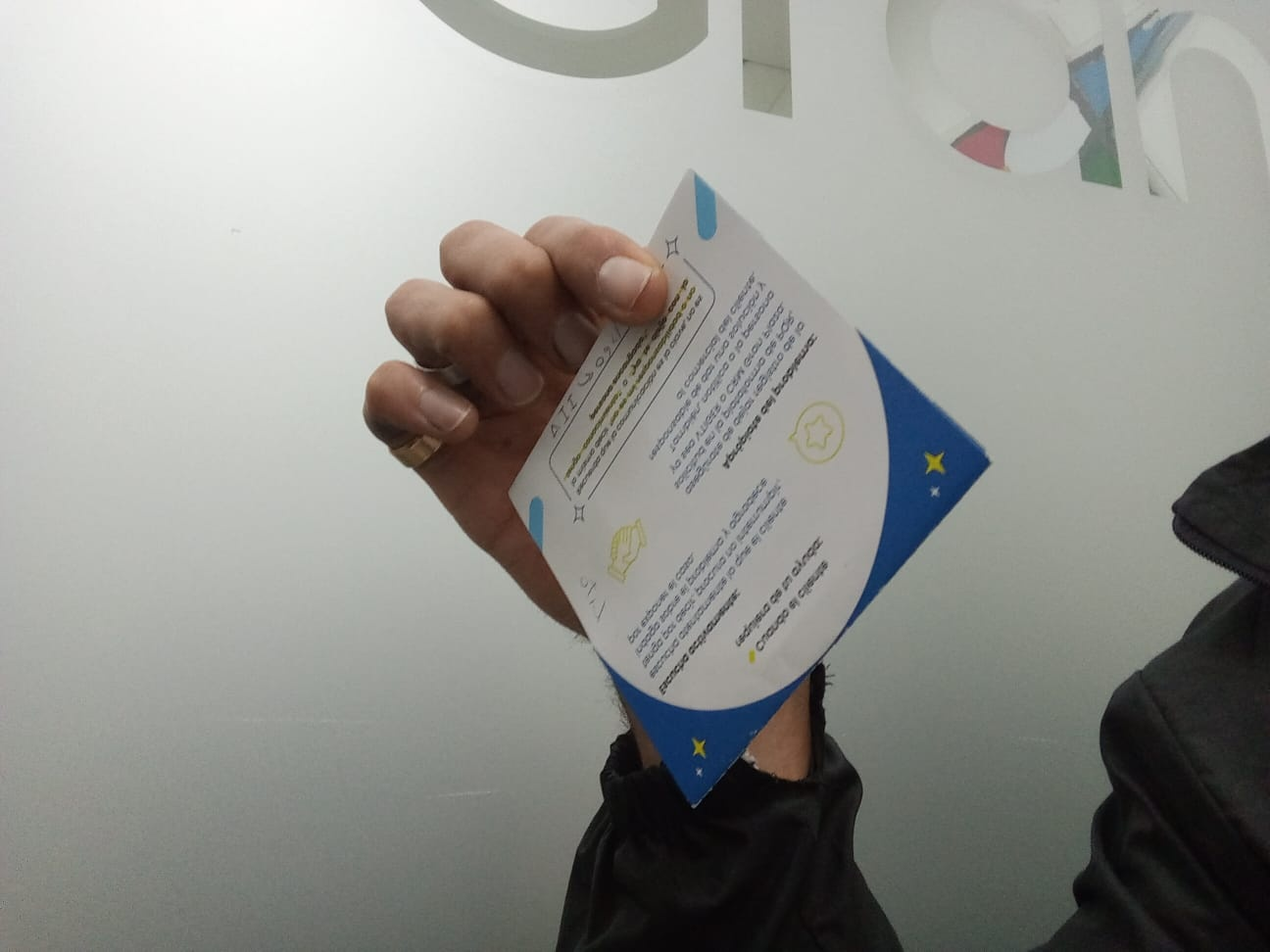Papel: (509, 167, 990, 809)
